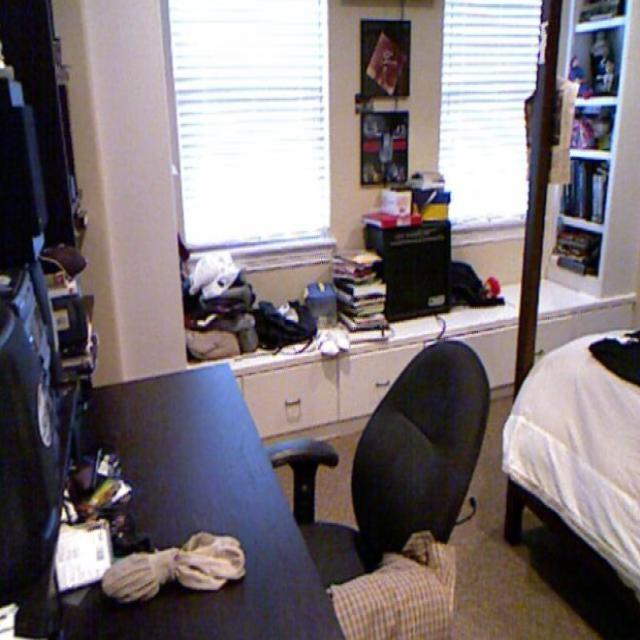obstacle: (253, 326, 501, 626), (491, 268, 640, 590)
